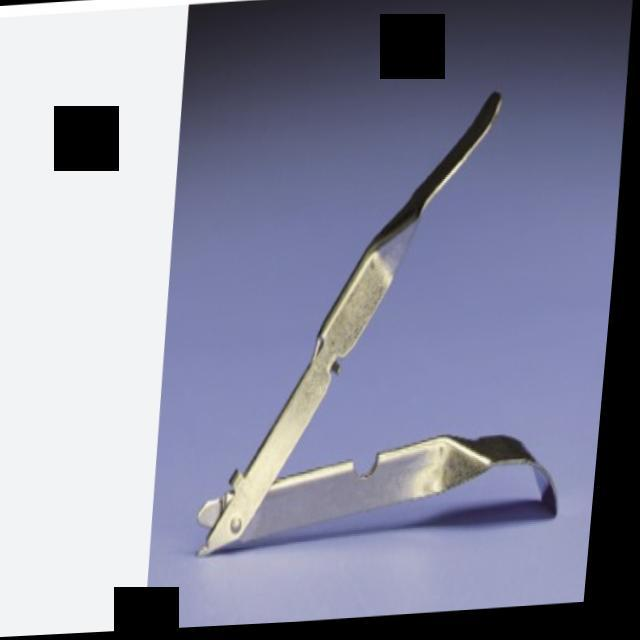Stapler Remover: (197, 80, 602, 560)
